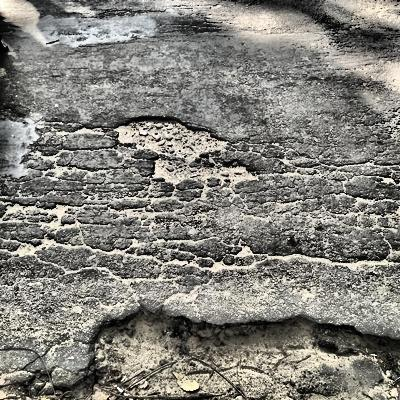pothole: (14, 299, 399, 399), (113, 113, 262, 184)
